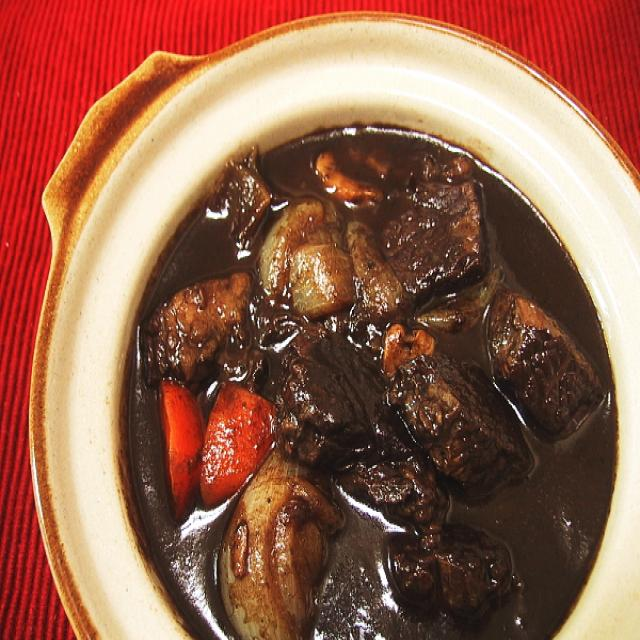汤锅炖物: (24, 0, 615, 614)
